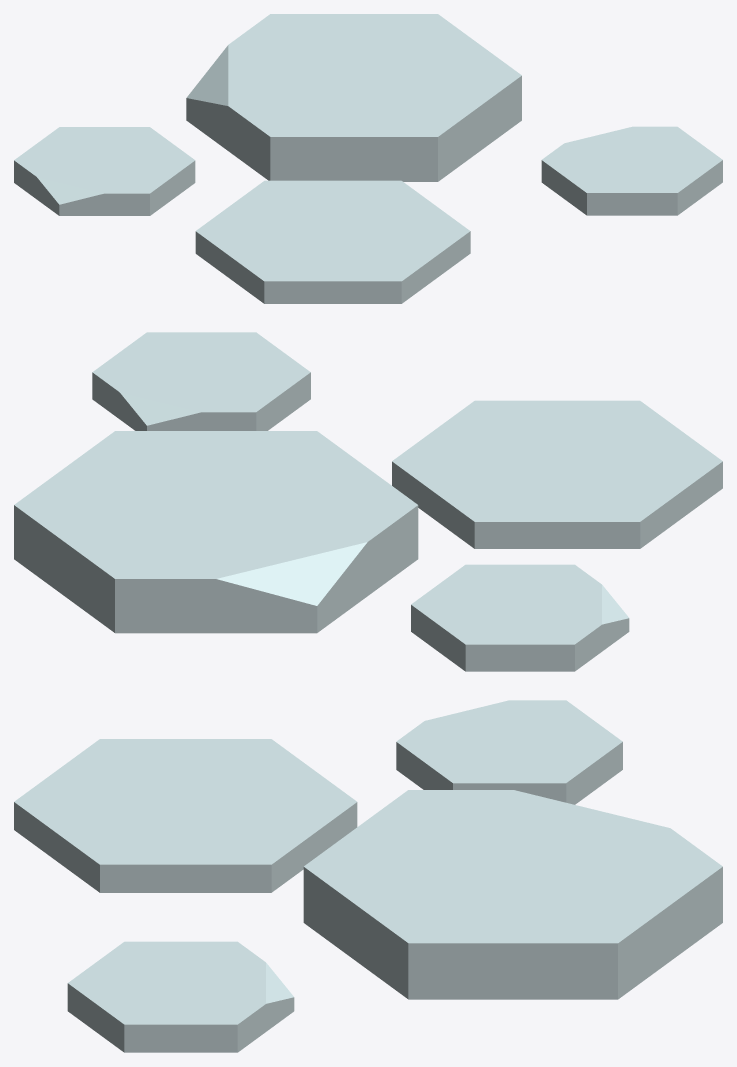
File: path_stoneEnd.glb
3 views of the same model, one above another, from view 1: azimuth 30°, elevation 25°; view 2: azimuth 150°, elevation 25°; view 3: azimuth 270°, elevation 25° (orthographic). The views are drawn at different scales.
Parts seen in each view (by area): view 1: path_stoneEnd; view 2: path_stoneEnd; view 3: path_stoneEnd.
Boxes of the visible parts, x1,y1,x2,y2 form: path_stoneEnd: (14,14,722,303); path_stoneEnd: (14,332,722,671); path_stoneEnd: (14,700,722,1052).
Bounding box in the file's own units: 0.6182 × 0.05 × 0.571.
